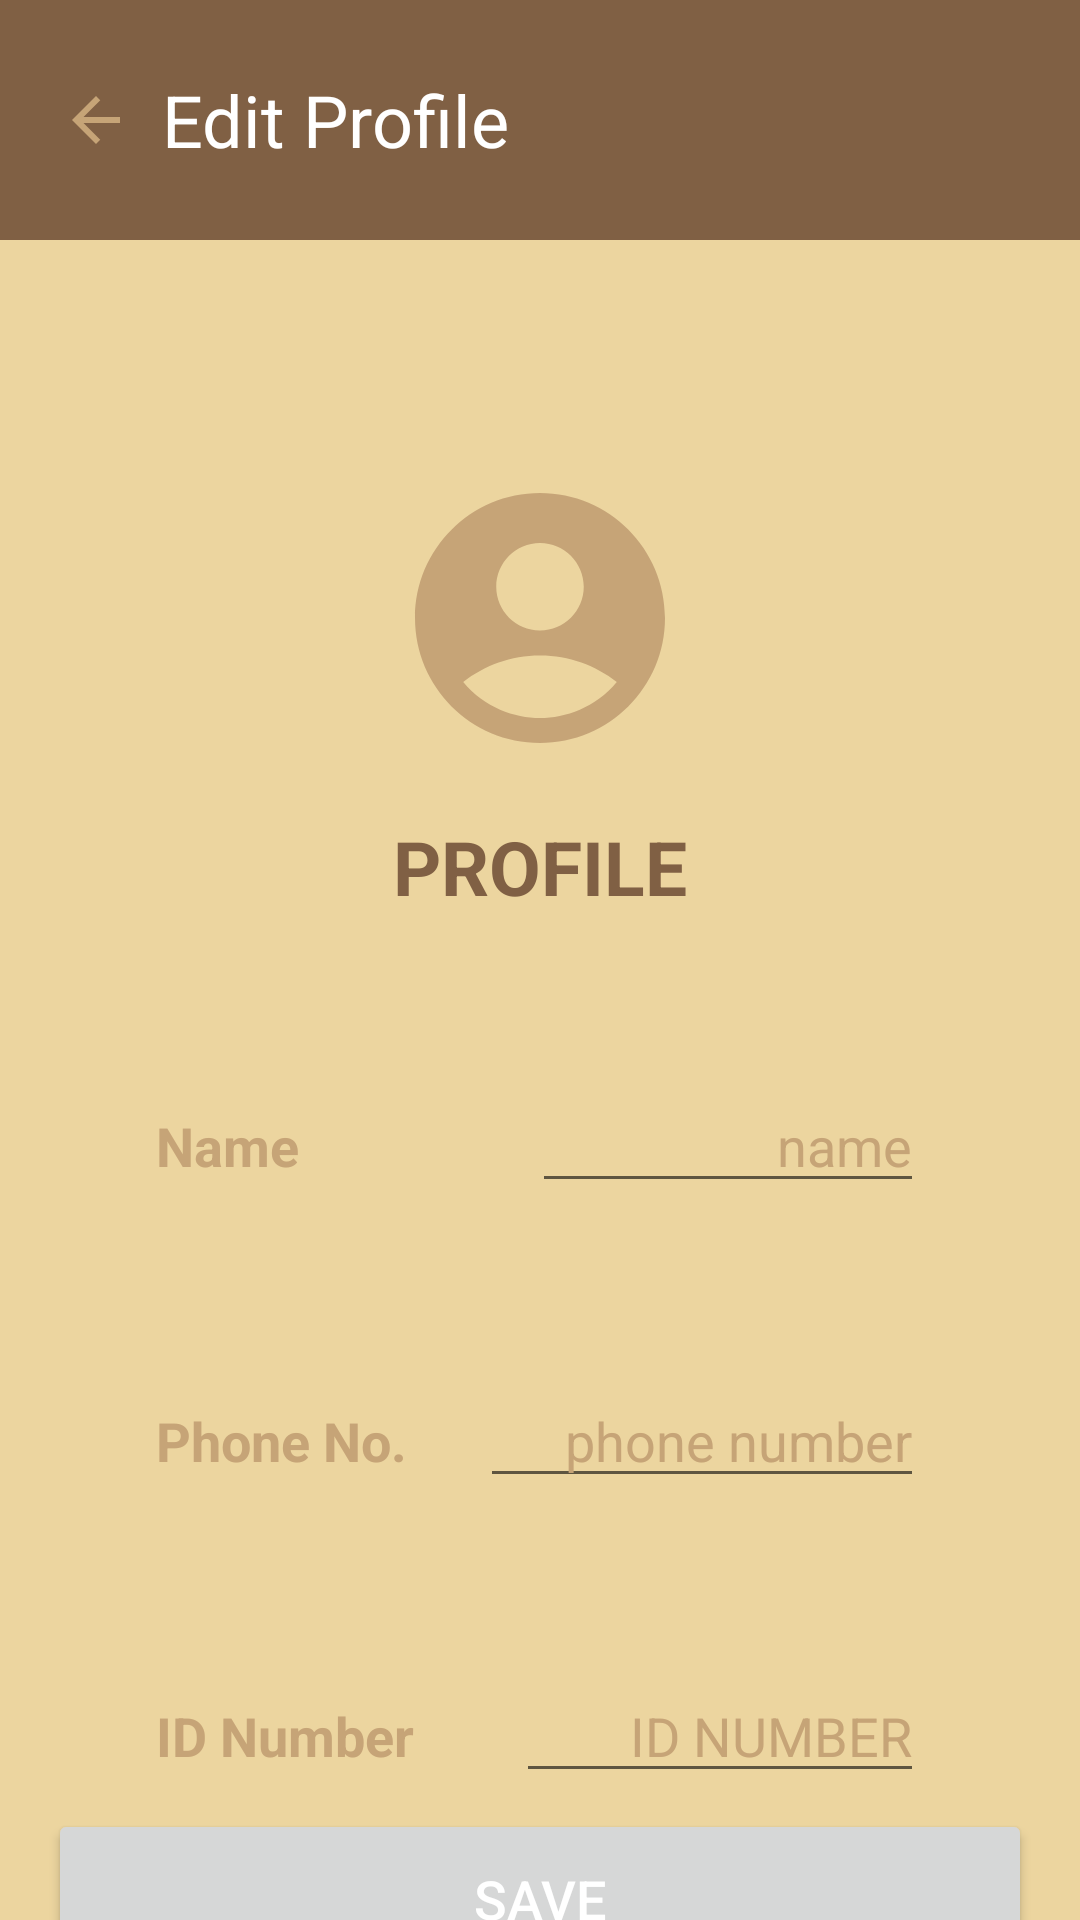

Icons on this 1080 × 1920 Android screen, each with the point to tap as (x=x, y=y):
account circle: (x=540, y=618)
Back: (x=96, y=120)
